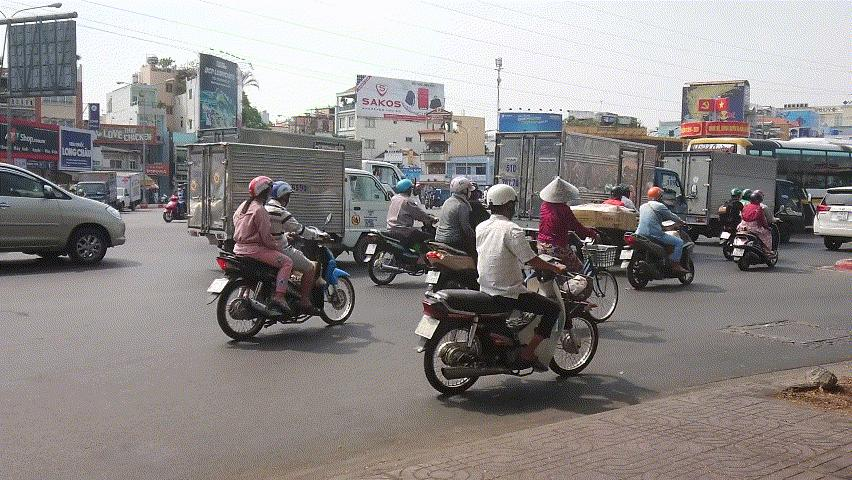driver: (413, 184, 598, 395), (206, 175, 356, 342), (363, 177, 439, 286), (620, 187, 696, 290), (730, 188, 785, 271)
helmet: (485, 182, 521, 221), (247, 174, 277, 207), (271, 180, 297, 209), (450, 176, 476, 200), (395, 178, 415, 198), (648, 186, 665, 203), (750, 192, 763, 206), (730, 188, 743, 201)
no-helmet: (539, 176, 579, 204)
